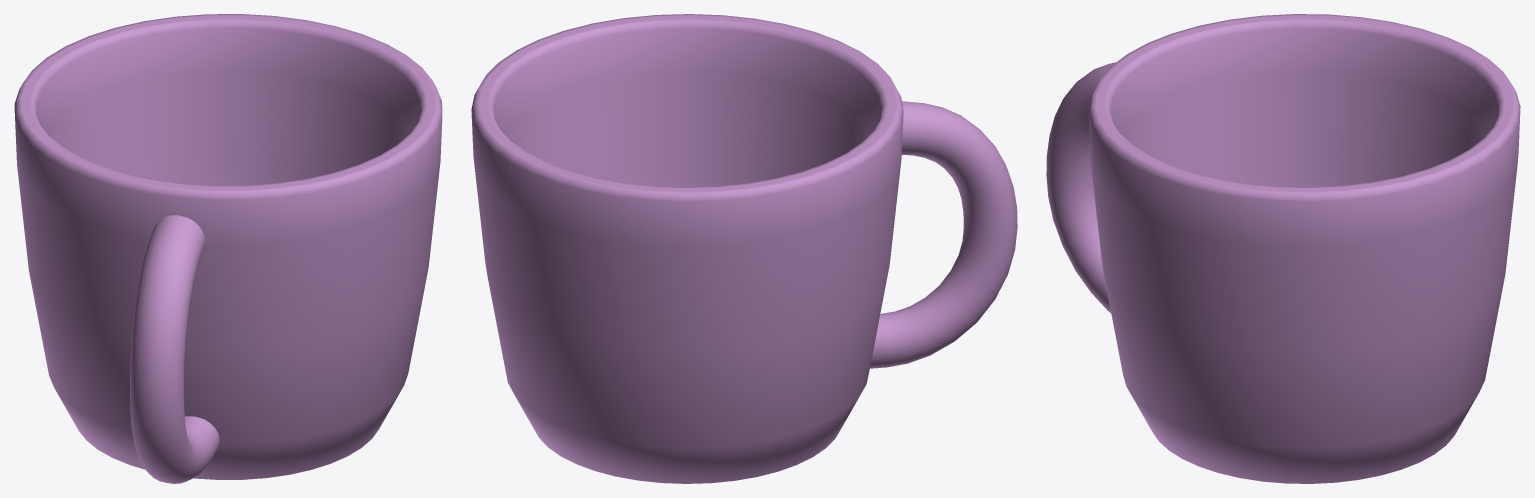
The model's file is taza.fbx.
3 renders of one model, left to right at view 1: azimuth 30°, elevation 25°; view 2: azimuth 150°, elevation 25°; view 3: azimuth 270°, elevation 25°, orthographic.
Parts seen in each view (by area): view 1: Taza de chocolate.008; view 2: Taza de chocolate.008; view 3: Taza de chocolate.008.
Part boxes in pixels (x1,y1,x2,y2): Taza de chocolate.008: [14, 14, 442, 483]; Taza de chocolate.008: [471, 14, 1017, 483]; Taza de chocolate.008: [1046, 14, 1520, 483].
Bounding box in the file's own units: 26.34 × 19.68 × 25.54.
